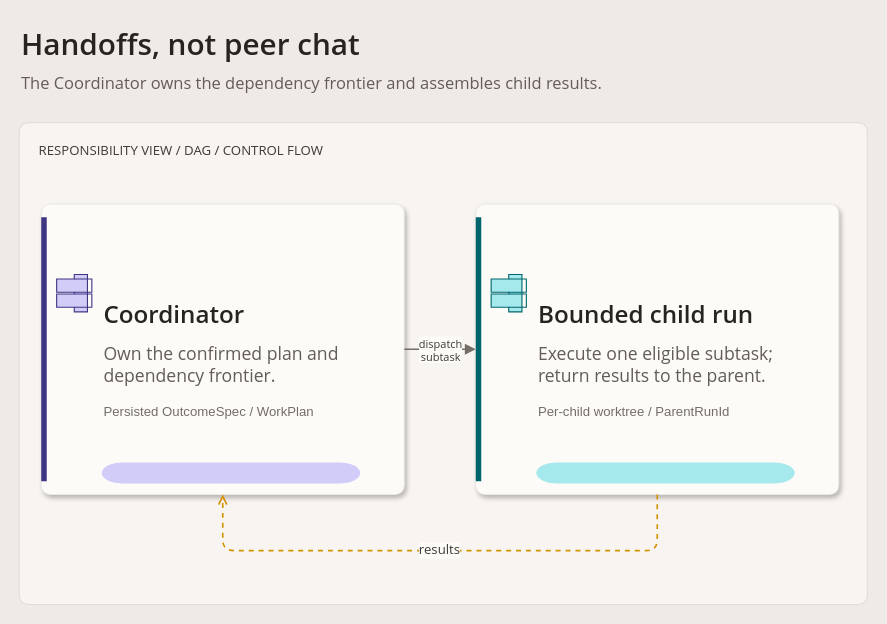
Some shapes in this 887 by 624 pixel diagram are drawn without their labels. Each missing label, with the centre of its shape:
CONTROL: (x=230, y=472)
EXECUTION: (x=665, y=472)
